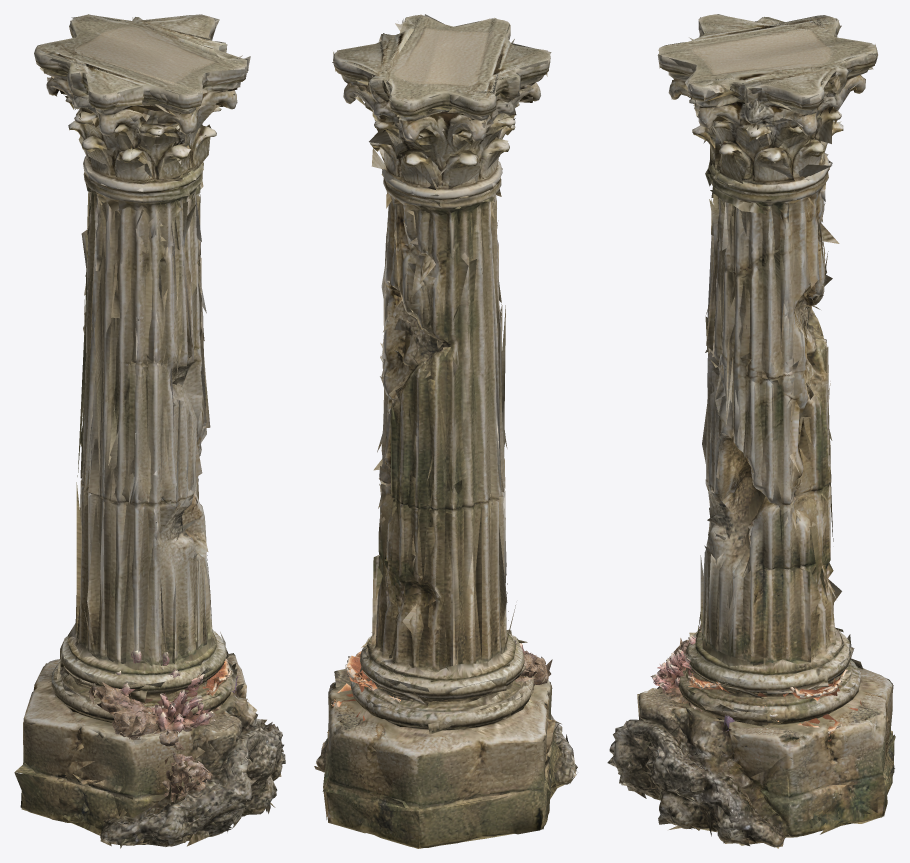
The model's file is tripo-kit.glb.
The picture shows the model from 3 angles, left to right: view 1: azimuth 30°, elevation 25°; view 2: azimuth 150°, elevation 25°; view 3: azimuth 270°, elevation 25°; orthographic projection.
Parts seen in each view (by area): view 1: pillar, pillar_lod, pillar_far, reef_cluster, reef_cluster_lod, reef_cluster_far; view 2: pillar, pillar_far, pillar_lod, reef_cluster, reef_cluster_lod; view 3: pillar, pillar_lod, pillar_far, reef_cluster, reef_cluster_lod, reef_cluster_far.
Boxes of the visible parts, x1=… form: pillar: x1=20, y1=14, x2=282, y2=846; pillar_lod: x1=20, y1=14, x2=285, y2=846; pillar_far: x1=14, y1=14, x2=283, y2=848; reef_cluster: x1=88, y1=650, x2=236, y2=801; reef_cluster_lod: x1=92, y1=644, x2=229, y2=802; reef_cluster_far: x1=90, y1=662, x2=238, y2=793; pillar: x1=316, y1=15, x2=576, y2=847; pillar_far: x1=323, y1=14, x2=576, y2=841; pillar_lod: x1=314, y1=14, x2=577, y2=848; reef_cluster: x1=331, y1=614, x2=550, y2=706; reef_cluster_lod: x1=332, y1=651, x2=545, y2=706; pillar: x1=609, y1=14, x2=894, y2=847; pillar_lod: x1=612, y1=14, x2=895, y2=846; pillar_far: x1=607, y1=14, x2=895, y2=848; reef_cluster: x1=652, y1=635, x2=847, y2=805; reef_cluster_lod: x1=650, y1=624, x2=843, y2=776; reef_cluster_far: x1=657, y1=636, x2=861, y2=741.
Bounding box in the file's own units: 2.25 × 6.58 × 2.3.
2 materials, 2 textured.
